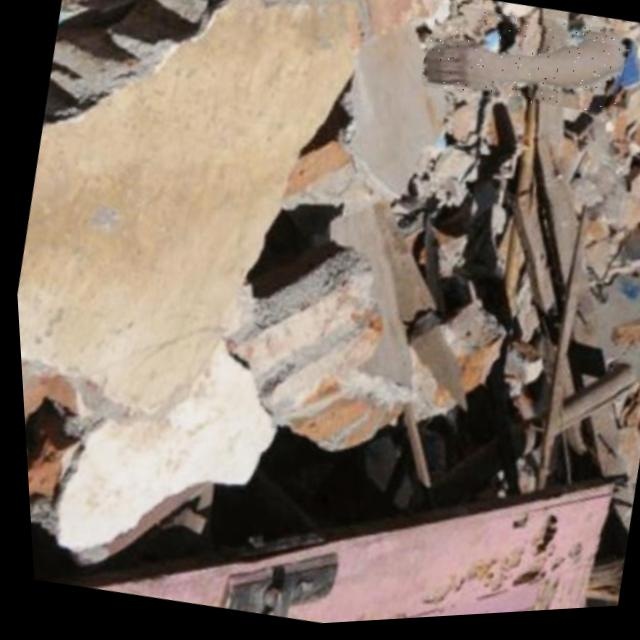Person in Rubble: (414, 0, 632, 132)
